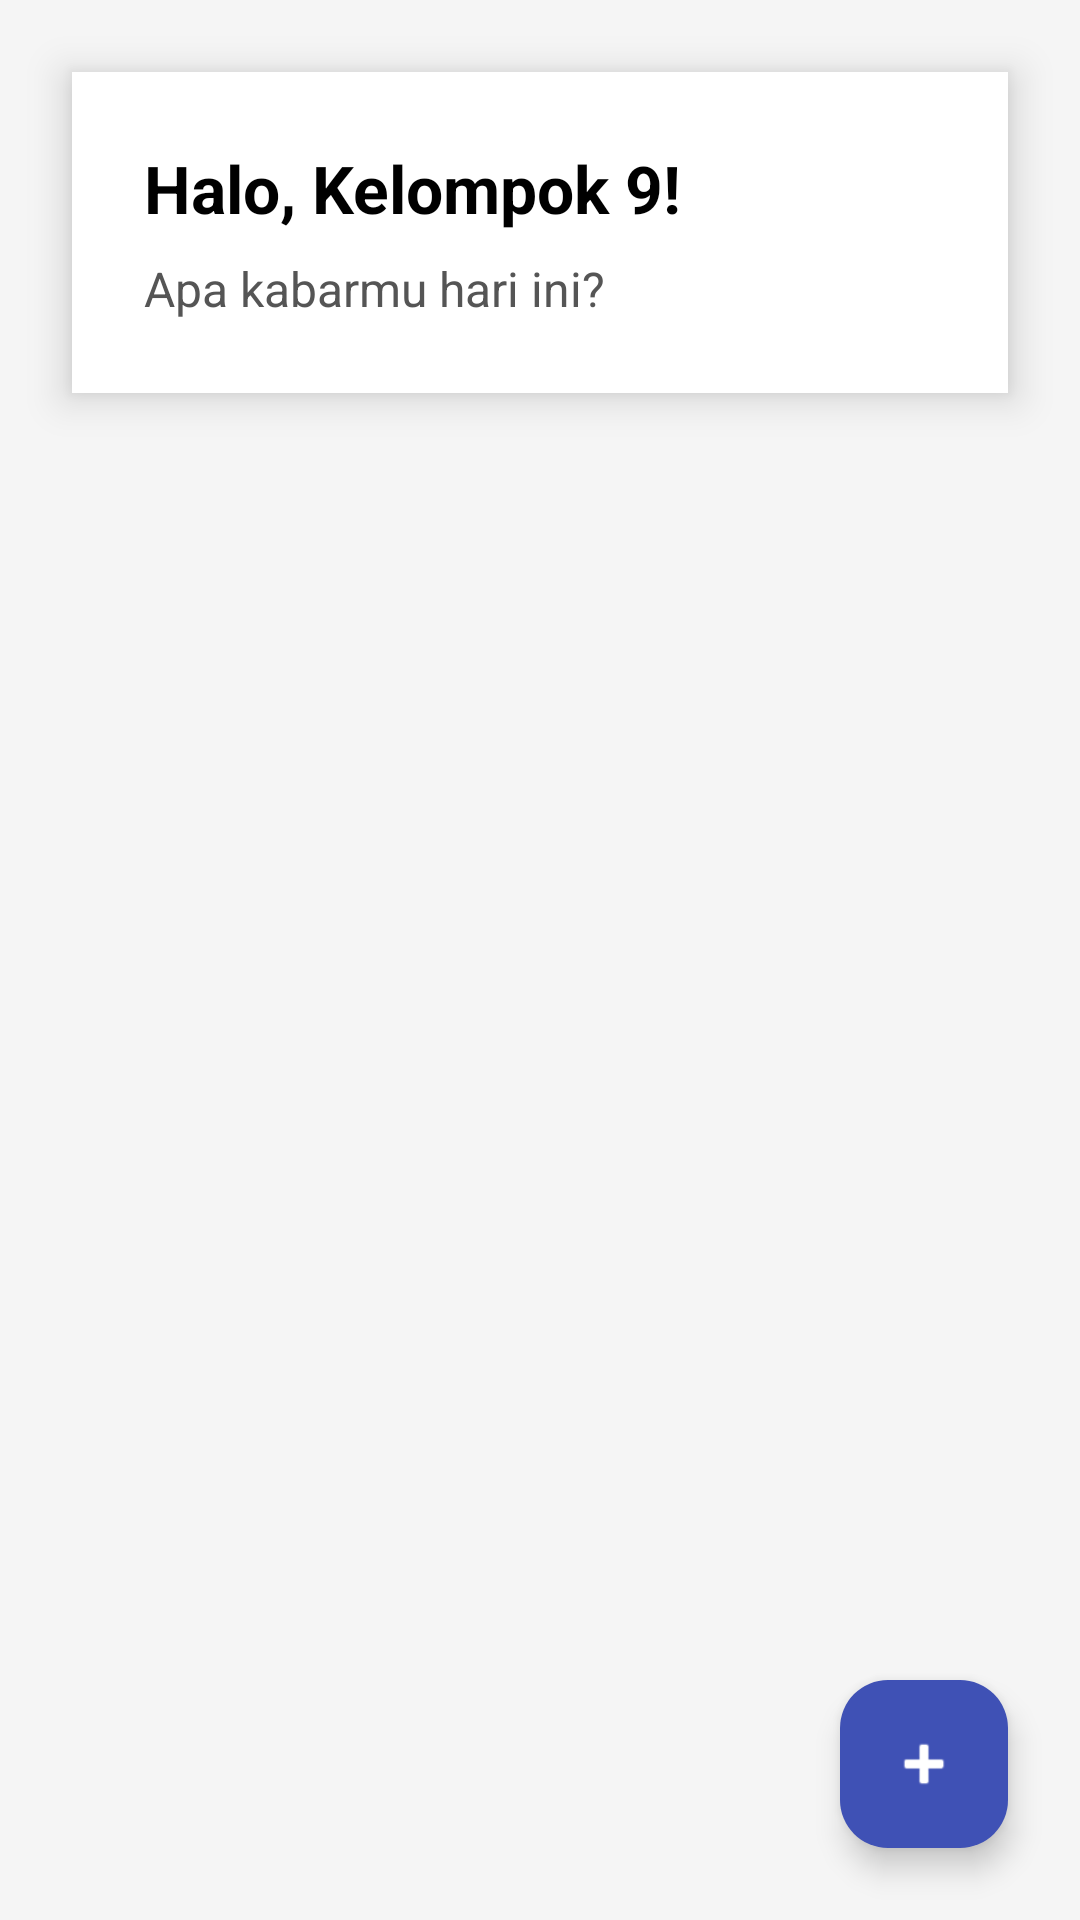

Where icons sit on this 1080*1920 app screen, as (x1, y1, x2, y2):
Tambah: (840, 1680, 1008, 1848)
